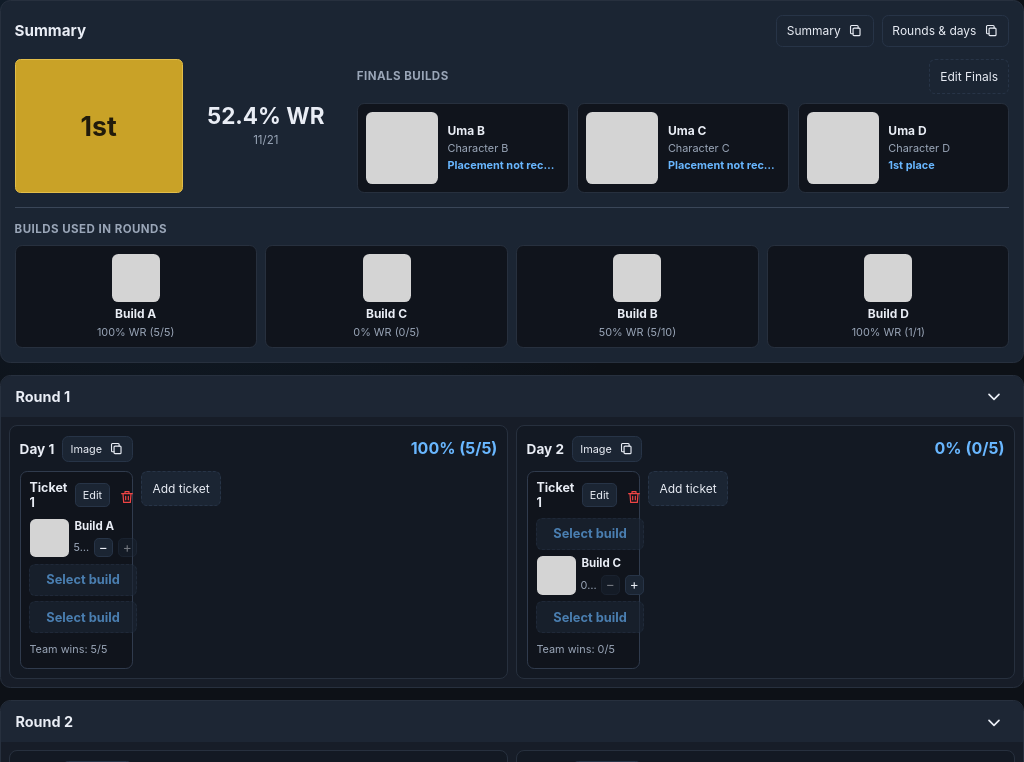
Scenario: UmaBuildResults › summarizes builds from rounds and Finals with their accumulated win rates
Expected: the text "1st" is shown, [15,59,183,193]
Expected: the text "Uma B" is shown, [448,123,485,138]
Click the button with aria-label "Show details for Round build Build A": (136, 297) [15,245,257,348]
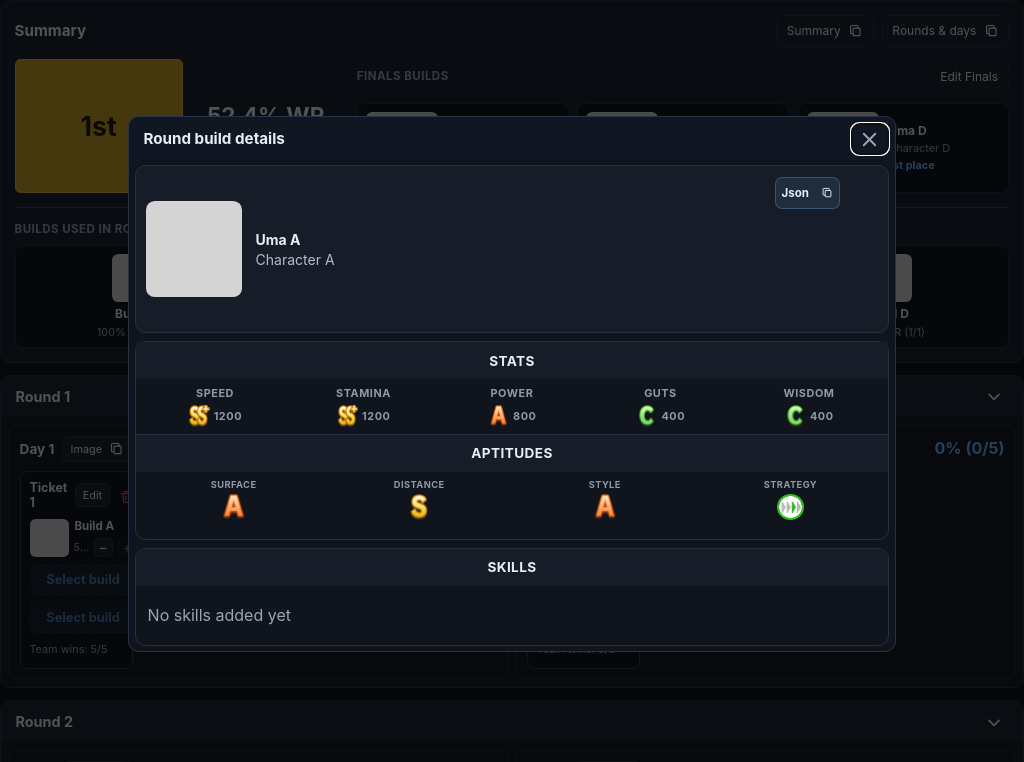
Expected: the text "Uma A" is shown, [256,231,300,248]
Click the button named "Close build details": (870, 139) [852,124,888,154]
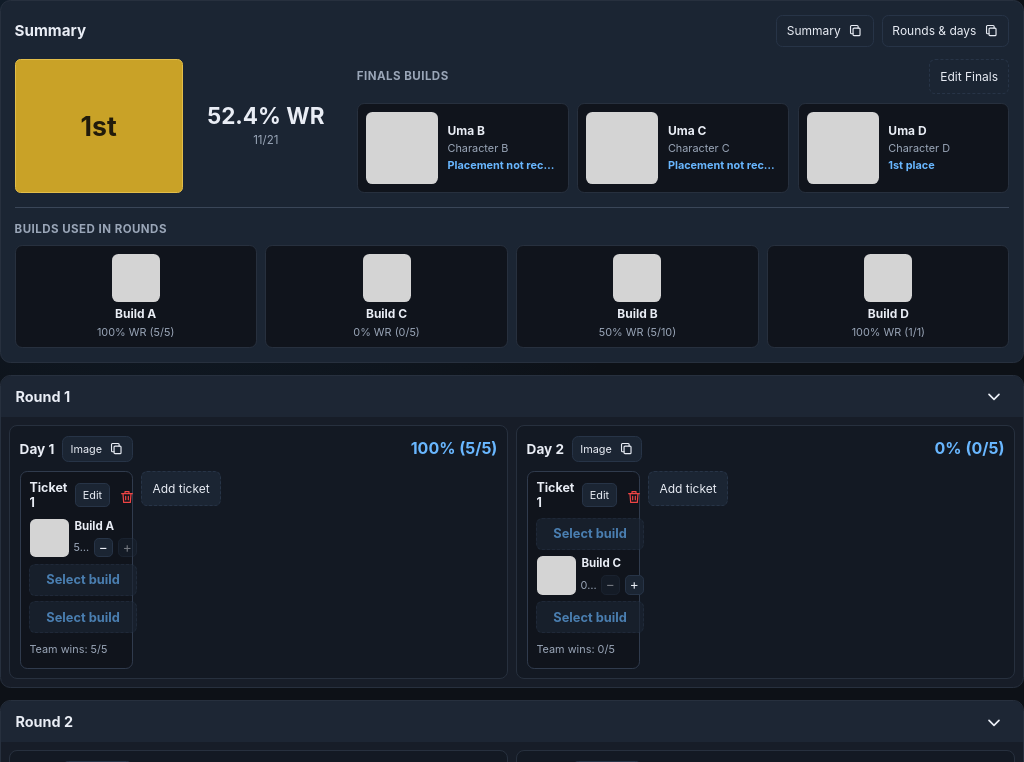
Click the button with aria-label "Show details for Finals Uma 1": (463, 148) [357,103,568,193]
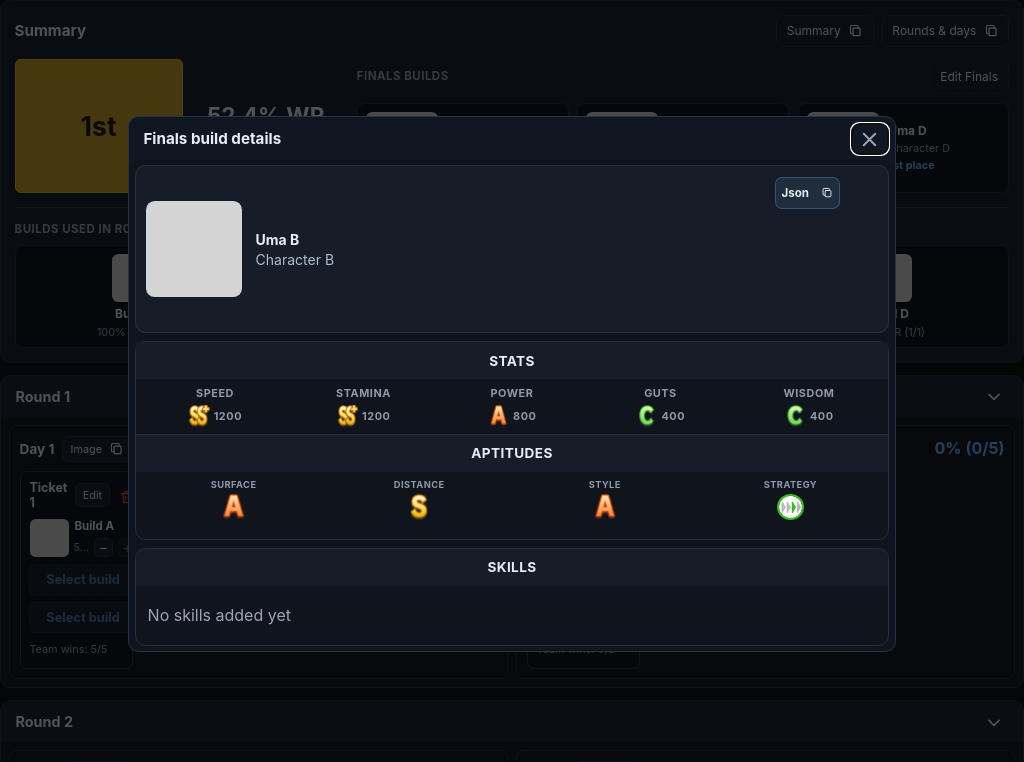
Expected: the dialog "Finals build details" is shown, [128,116,896,652]
Expected: the text "Uma B" is shown, [256,231,299,248]
